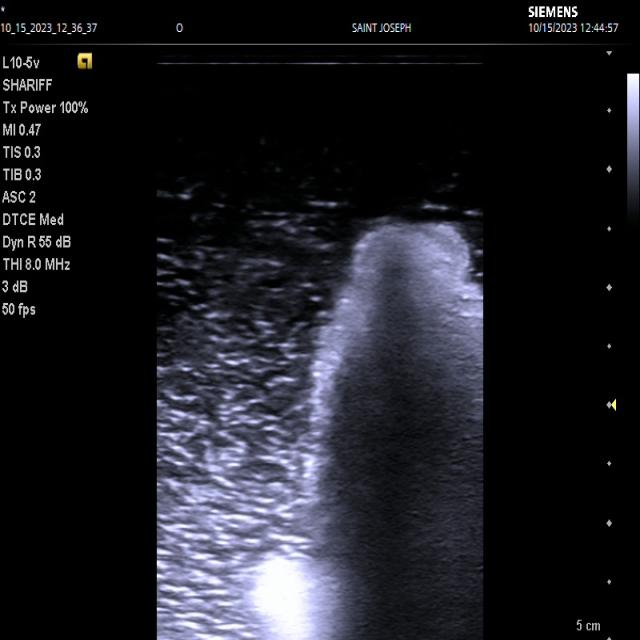tissue: (297, 222, 486, 640)
